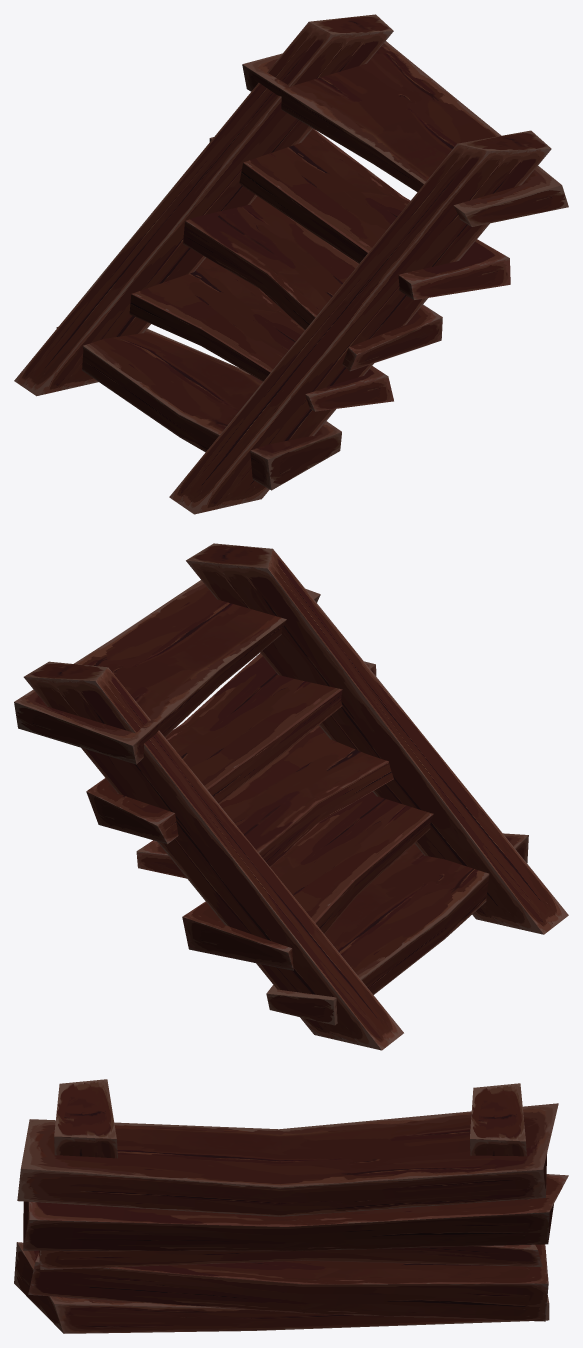
File: SM_PROP_stairs_wood_02.fbx
3 views of the same model, one above another, from view 1: azimuth 30°, elevation 25°; view 2: azimuth 150°, elevation 25°; view 3: azimuth 270°, elevation 25° (orthographic). The views are drawn at different scales.
Visible parts, largest first — view 1: SM_PROP_stairs_wood_02; view 2: SM_PROP_stairs_wood_02; view 3: SM_PROP_stairs_wood_02.
Part boxes in pixels (<box>): SM_PROP_stairs_wood_02: <box>14,14,568,514</box>; SM_PROP_stairs_wood_02: <box>14,543,568,1050</box>; SM_PROP_stairs_wood_02: <box>14,1079,568,1333</box>.
Size of the model in its own units: 271 by 206 by 274.
